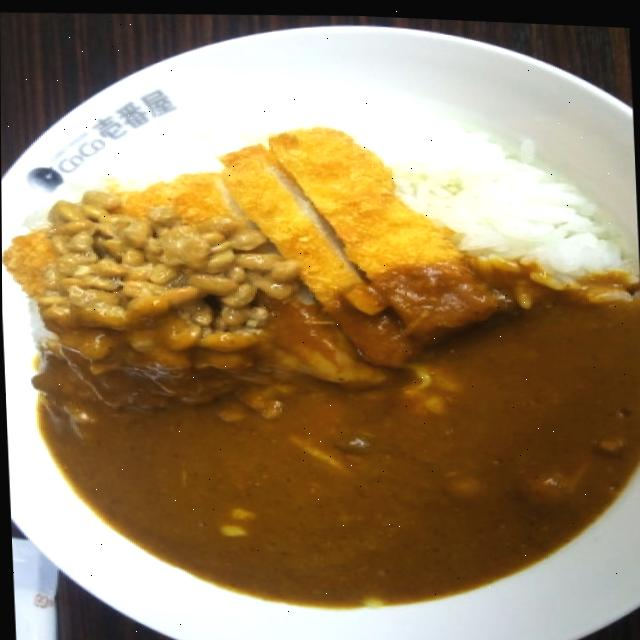鸡肉料理 含炸鸡: (0, 74, 631, 601)
